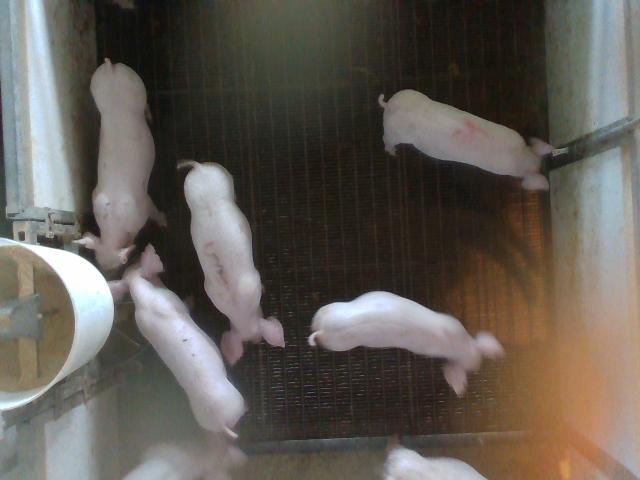pig-3: (178, 161, 284, 364)
pig-4: (379, 90, 552, 189)
